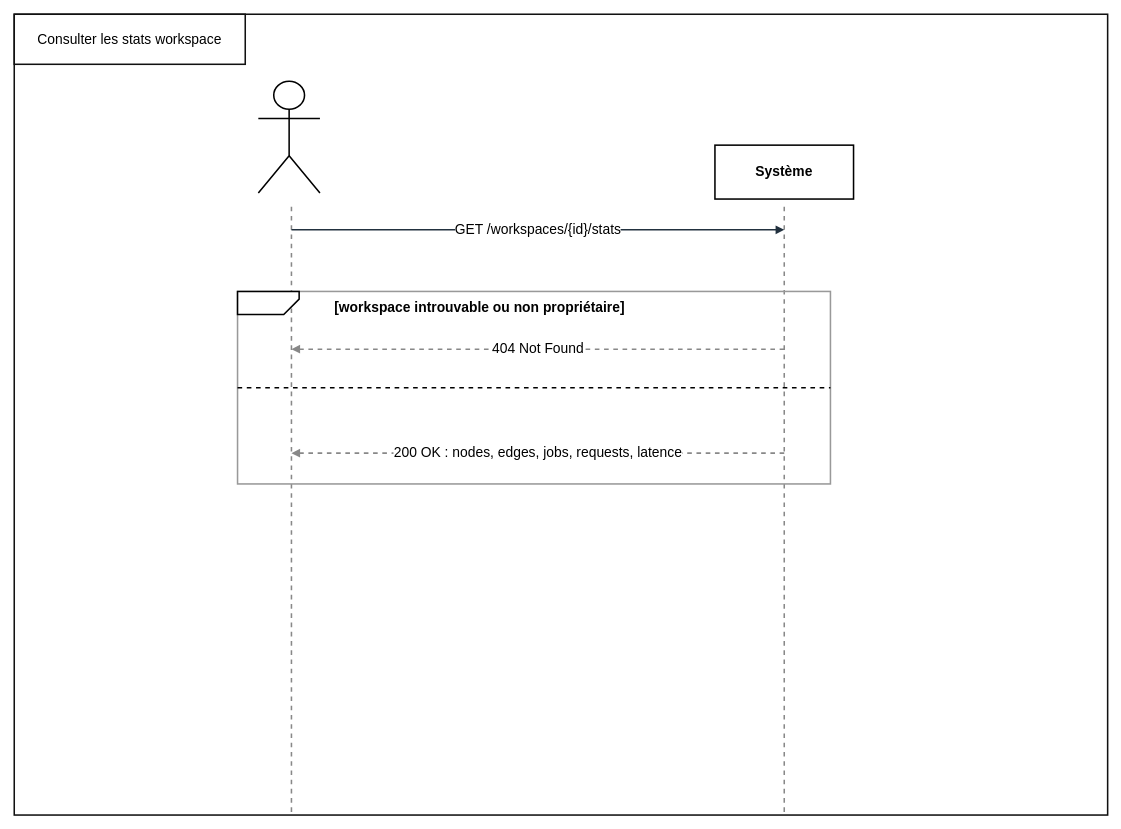
This 1121x829 diagram has some shape labels left out. The shapes that lost their labels are listed below. From the top down, each one's box as (x1, y1, x2, y2) in pixels, then its label:
(257, 80, 320, 193): Utilisateur Dashboard
(236, 290, 300, 315): Alt
